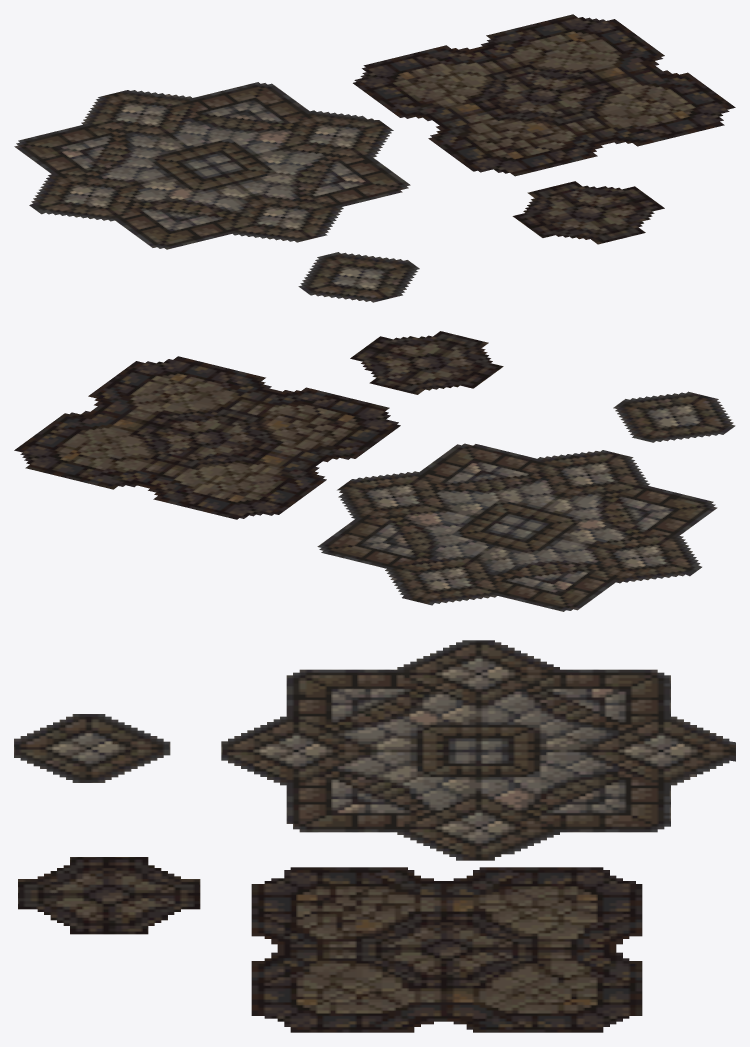
Rendered from EnvObjMD_FloorPattern_A_L.FBX.
The picture shows the model from 3 angles, top to bottom: view 1: azimuth 30°, elevation 25°; view 2: azimuth 150°, elevation 25°; view 3: azimuth 270°, elevation 25°; orthographic projection. The views are drawn at different scales.
Visible parts, largest first — view 1: EnvObjMD_FloorPattern_A_L, EnvObjMD_FloorPattern_B_L, EnvObjMD_FloorPattern_B_S, EnvObjMD_FloorPattern_A_S; view 2: EnvObjMD_FloorPattern_A_L, EnvObjMD_FloorPattern_B_L, EnvObjMD_FloorPattern_B_S, EnvObjMD_FloorPattern_A_S; view 3: EnvObjMD_FloorPattern_A_L, EnvObjMD_FloorPattern_B_L, EnvObjMD_FloorPattern_B_S, EnvObjMD_FloorPattern_A_S.
Boxes of the visible parts, box(x1,y1,x2,y2) form: EnvObjMD_FloorPattern_A_L: box(14, 82, 410, 249); EnvObjMD_FloorPattern_B_L: box(353, 14, 735, 176); EnvObjMD_FloorPattern_B_S: box(512, 181, 664, 244); EnvObjMD_FloorPattern_A_S: box(298, 252, 419, 302); EnvObjMD_FloorPattern_A_L: box(317, 443, 717, 611); EnvObjMD_FloorPattern_B_L: box(14, 356, 400, 519); EnvObjMD_FloorPattern_B_S: box(350, 331, 503, 394); EnvObjMD_FloorPattern_A_S: box(613, 391, 735, 442); EnvObjMD_FloorPattern_A_L: box(221, 640, 735, 860); EnvObjMD_FloorPattern_B_L: box(251, 867, 642, 1032); EnvObjMD_FloorPattern_B_S: box(18, 857, 200, 934); EnvObjMD_FloorPattern_A_S: box(14, 714, 170, 782).
Bounding box in the file's own units: 762 × 2.7 × 589.
Materials: 2 (2 with a texture image).
